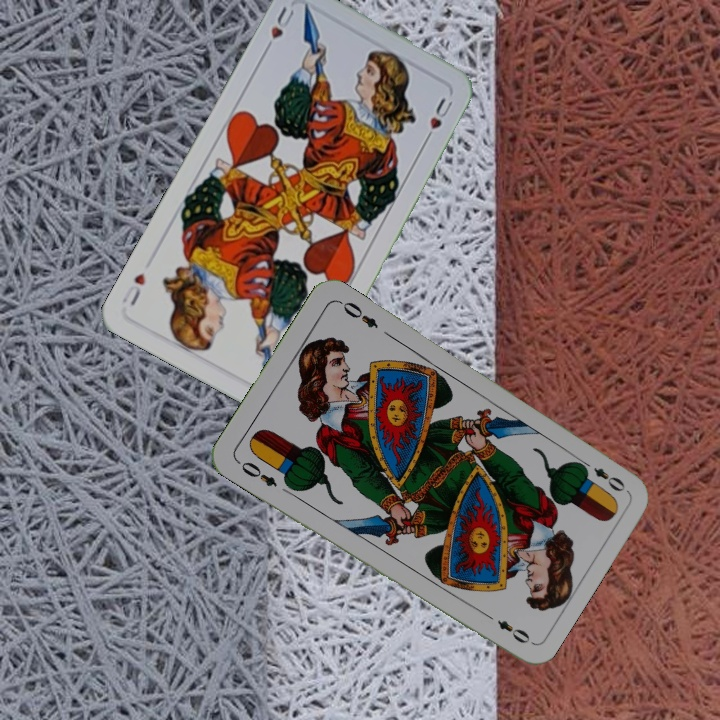EO: (575, 455, 629, 495), (232, 456, 280, 490)
HU: (259, 2, 297, 56)
